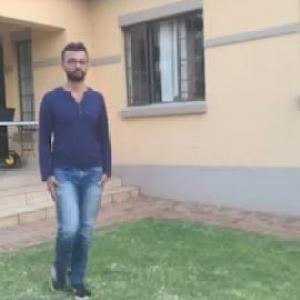follow: (41, 52, 112, 272)
